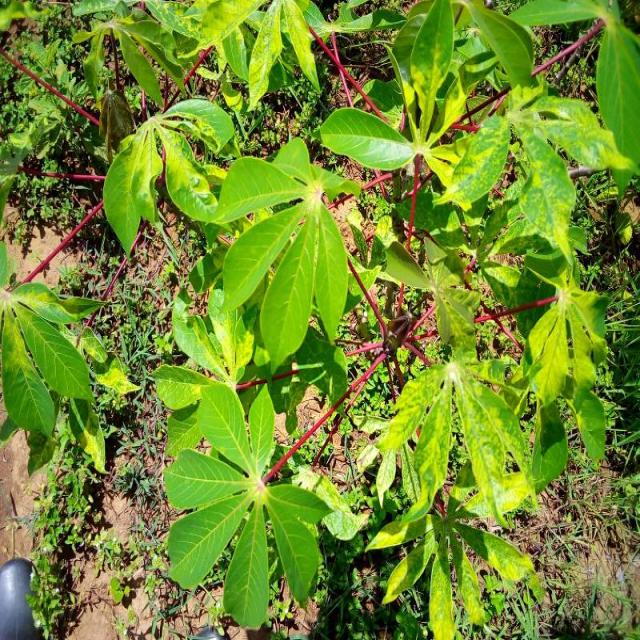cassava leaf: (2, 0, 636, 636), (162, 378, 334, 629), (210, 136, 361, 374)
